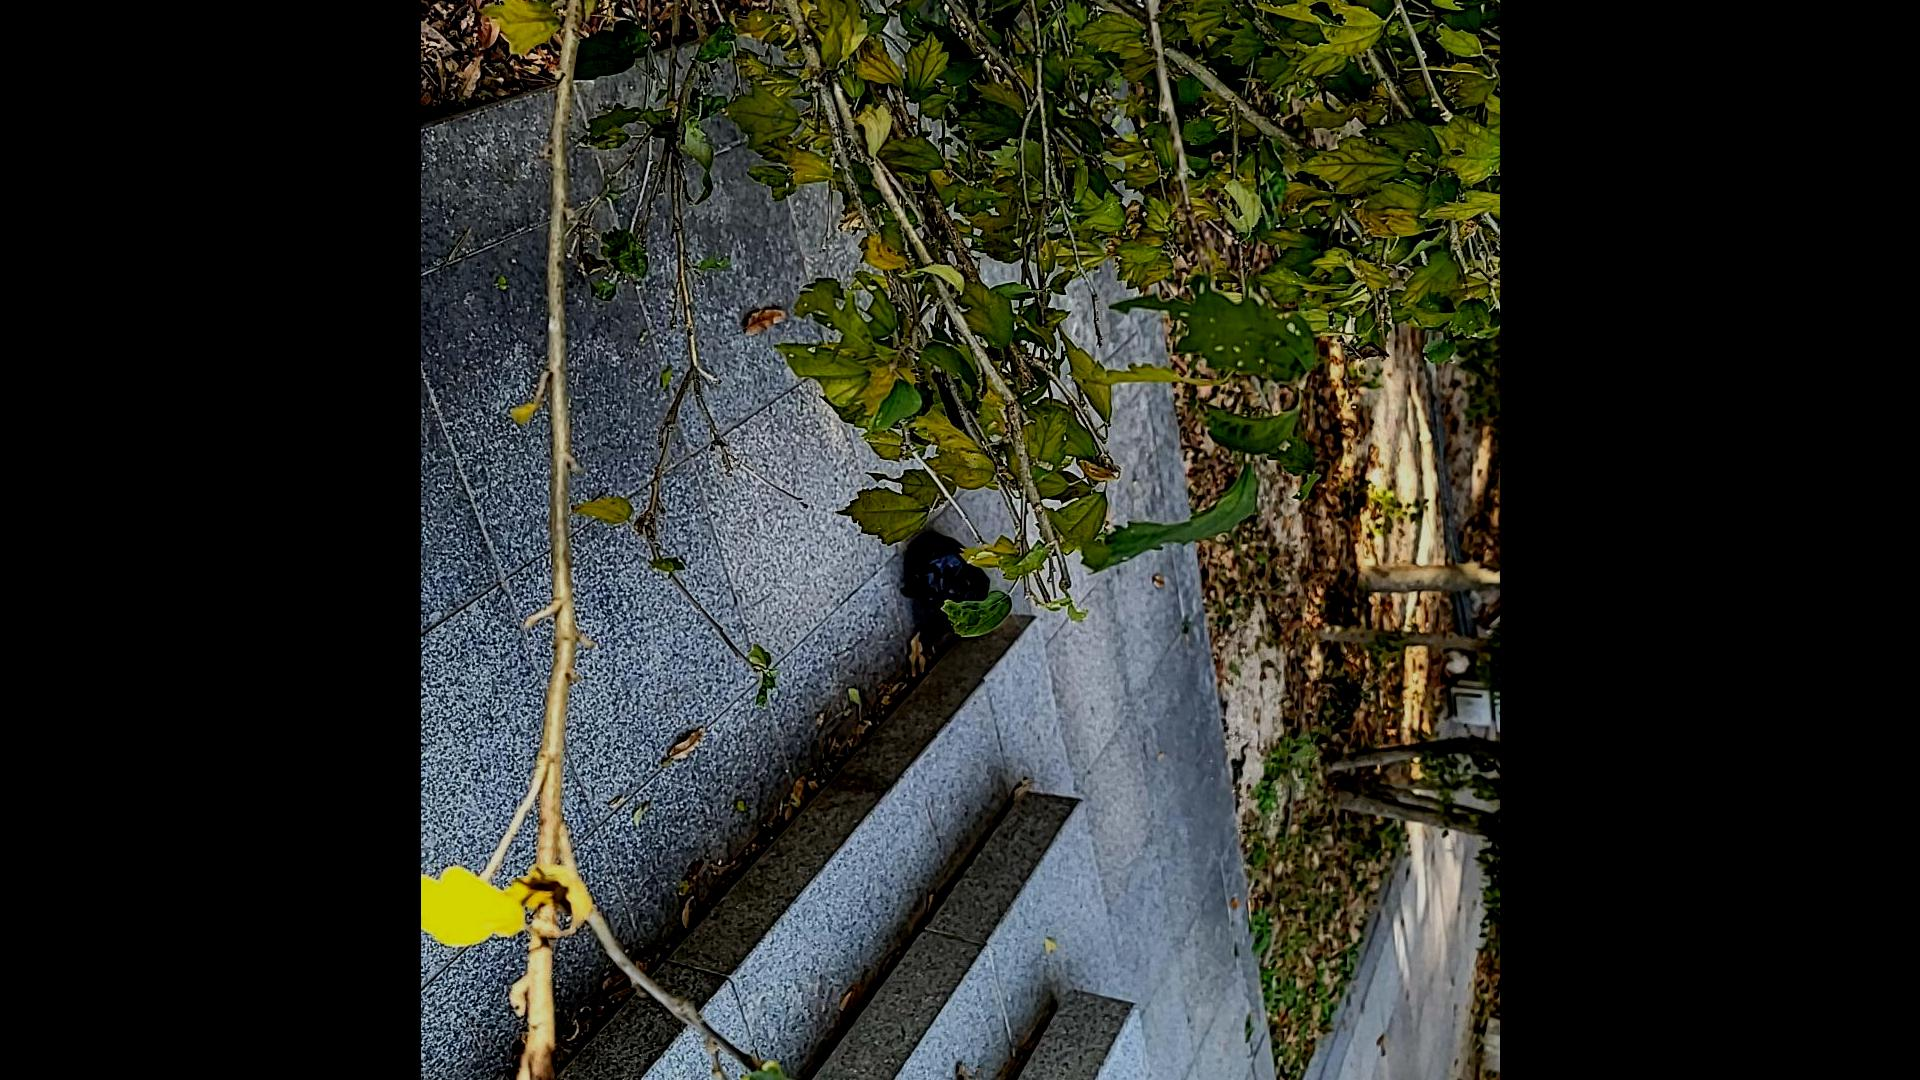black_bag: (897, 530, 992, 636)
